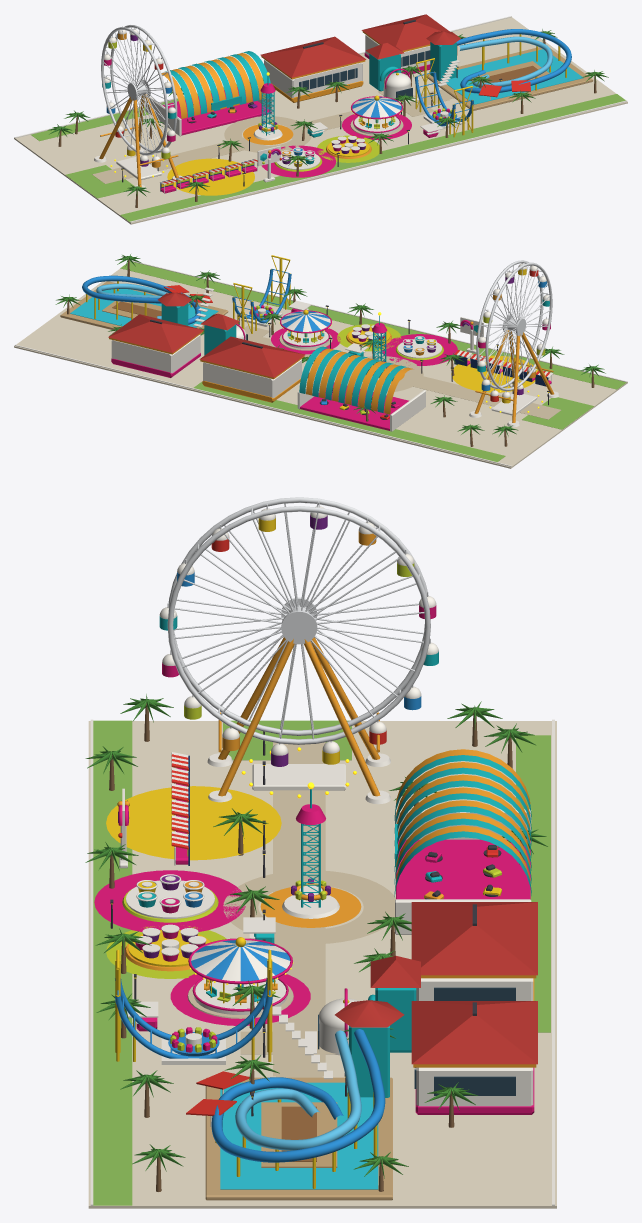
Rendered from funscapes-two-rivers.glb.
The picture shows the model from 3 angles, top to bottom: view 1: azimuth 30°, elevation 25°; view 2: azimuth 150°, elevation 25°; view 3: azimuth 270°, elevation 25°; orthographic projection. The views are drawn at different scales.
Visible parts, largest first — view 1: site_pad, lawn_south_strip, arcade_west_roof, lazy_river_water, promenade_main, games_apron, arcade_east_roof, bumper_kerb, pool_coping, plaza_ring, flume_0, arcade_west_walls (+40 smaller); view 2: site_pad, lawn_south_strip, arcade_west_roof, lawn_north_strip, arcade_east_roof, arcade_west_walls, arcade_east_walls, bumper_kerb, promenade_main, lazy_river_water, games_apron, flume_0 (+38 smaller); view 3: site_pad, lawn_south_strip, arcade_west_roof, arcade_east_roof, games_apron, promenade_main, lazy_river_water, bumper_kerb, lawn_north_strip, plaza_ring, flume_0, pool_coping (+30 smaller).
Part boxes in pixels (bbox=[...]): site_pad: bbox=[14, 17, 627, 224]; lawn_south_strip: bbox=[120, 94, 625, 221]; arcade_west_roof: bbox=[260, 36, 366, 77]; lazy_river_water: bbox=[446, 49, 583, 104]; promenade_main: bbox=[92, 90, 449, 183]; games_apron: bbox=[167, 158, 254, 195]; arcade_east_roof: bbox=[361, 14, 449, 50]; bumper_kerb: bbox=[162, 87, 271, 135]; pool_coping: bbox=[426, 47, 593, 110]; plaza_ring: bbox=[224, 116, 311, 152]; flume_0: bbox=[457, 29, 571, 93]; arcade_west_walls: bbox=[264, 59, 362, 98]; site_pad: bbox=[14, 268, 627, 468]; lawn_south_strip: bbox=[120, 261, 626, 389]; arcade_west_roof: bbox=[199, 336, 305, 377]; lawn_north_strip: bbox=[193, 382, 505, 462]; arcade_east_roof: bbox=[108, 314, 203, 352]; arcade_west_walls: bbox=[203, 359, 301, 397]; arcade_east_walls: bbox=[111, 334, 200, 373]; bumper_kerb: bbox=[300, 382, 408, 430]; promenade_main: bbox=[204, 334, 561, 419]; lazy_river_water: bbox=[70, 289, 218, 327]; games_apron: bbox=[451, 355, 537, 392]; flume_0: bbox=[82, 275, 200, 324]; site_pad: bbox=[88, 721, 556, 1208]; lawn_south_strip: bbox=[93, 720, 132, 1205]; arcade_west_roof: bbox=[411, 902, 537, 975]; arcade_east_roof: bbox=[411, 1001, 537, 1064]; games_apron: bbox=[106, 786, 281, 860]; promenade_main: bbox=[273, 742, 325, 1076]; lazy_river_water: bbox=[220, 1082, 378, 1189]; bumper_kerb: bbox=[396, 839, 530, 899]; lawn_north_strip: bbox=[516, 735, 550, 1032]; plaza_ring: bbox=[223, 870, 395, 944]; flume_0: bbox=[211, 1029, 385, 1162]; pool_coping: bbox=[205, 1077, 392, 1200].
Bounding box in the file's own units: 197 × 53.05 × 80.58.
